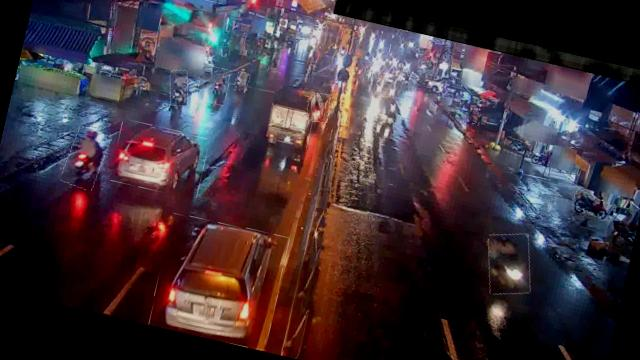Bike: (479, 229, 539, 300), (61, 126, 111, 192), (194, 64, 232, 107), (570, 191, 616, 221), (164, 68, 193, 108), (372, 93, 404, 126), (501, 137, 532, 158), (233, 71, 250, 93)
Car: (147, 212, 290, 352), (109, 118, 210, 200), (304, 91, 332, 124)
Truck: (266, 84, 318, 152)
